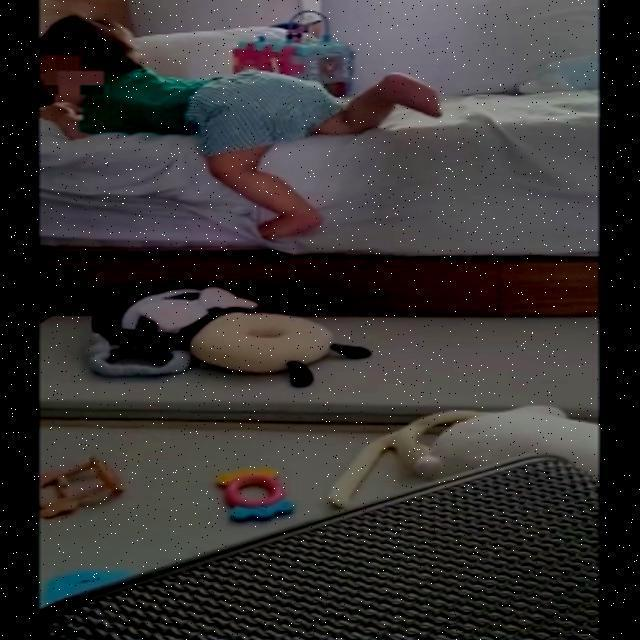child: (36, 15, 442, 239)
